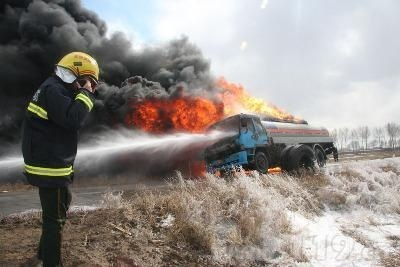fire: (130, 81, 296, 134)
